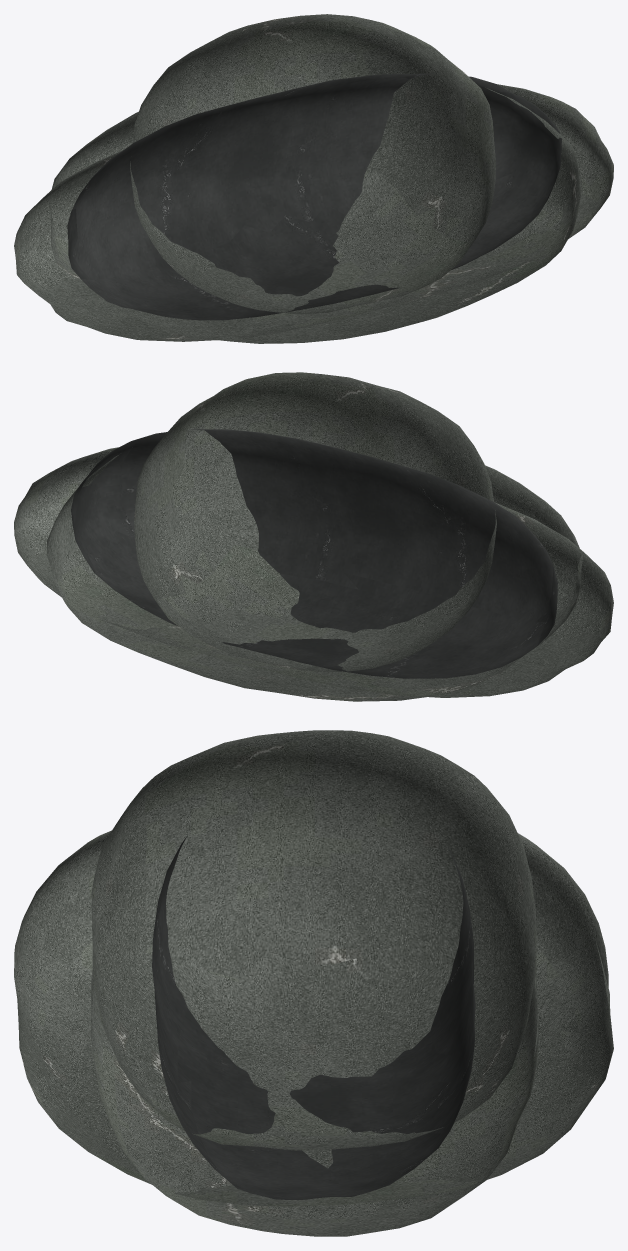
Rendered from hoh_river_cobbles.glb.
3 renders of one model, top to bottom at view 1: azimuth 30°, elevation 25°; view 2: azimuth 150°, elevation 25°; view 3: azimuth 270°, elevation 25°, orthographic. The views are drawn at different scales.
Visible parts, largest first — view 1: hoh_river_cobbles; view 2: hoh_river_cobbles; view 3: hoh_river_cobbles.
Boxes of the visible parts, x1,y1,x2,y2 form: hoh_river_cobbles: (14, 14, 613, 343); hoh_river_cobbles: (14, 372, 613, 701); hoh_river_cobbles: (14, 730, 613, 1236).
Bounding box in the file's own units: 0.3637 × 0.1484 × 0.242.
2 materials, 2 textured.
